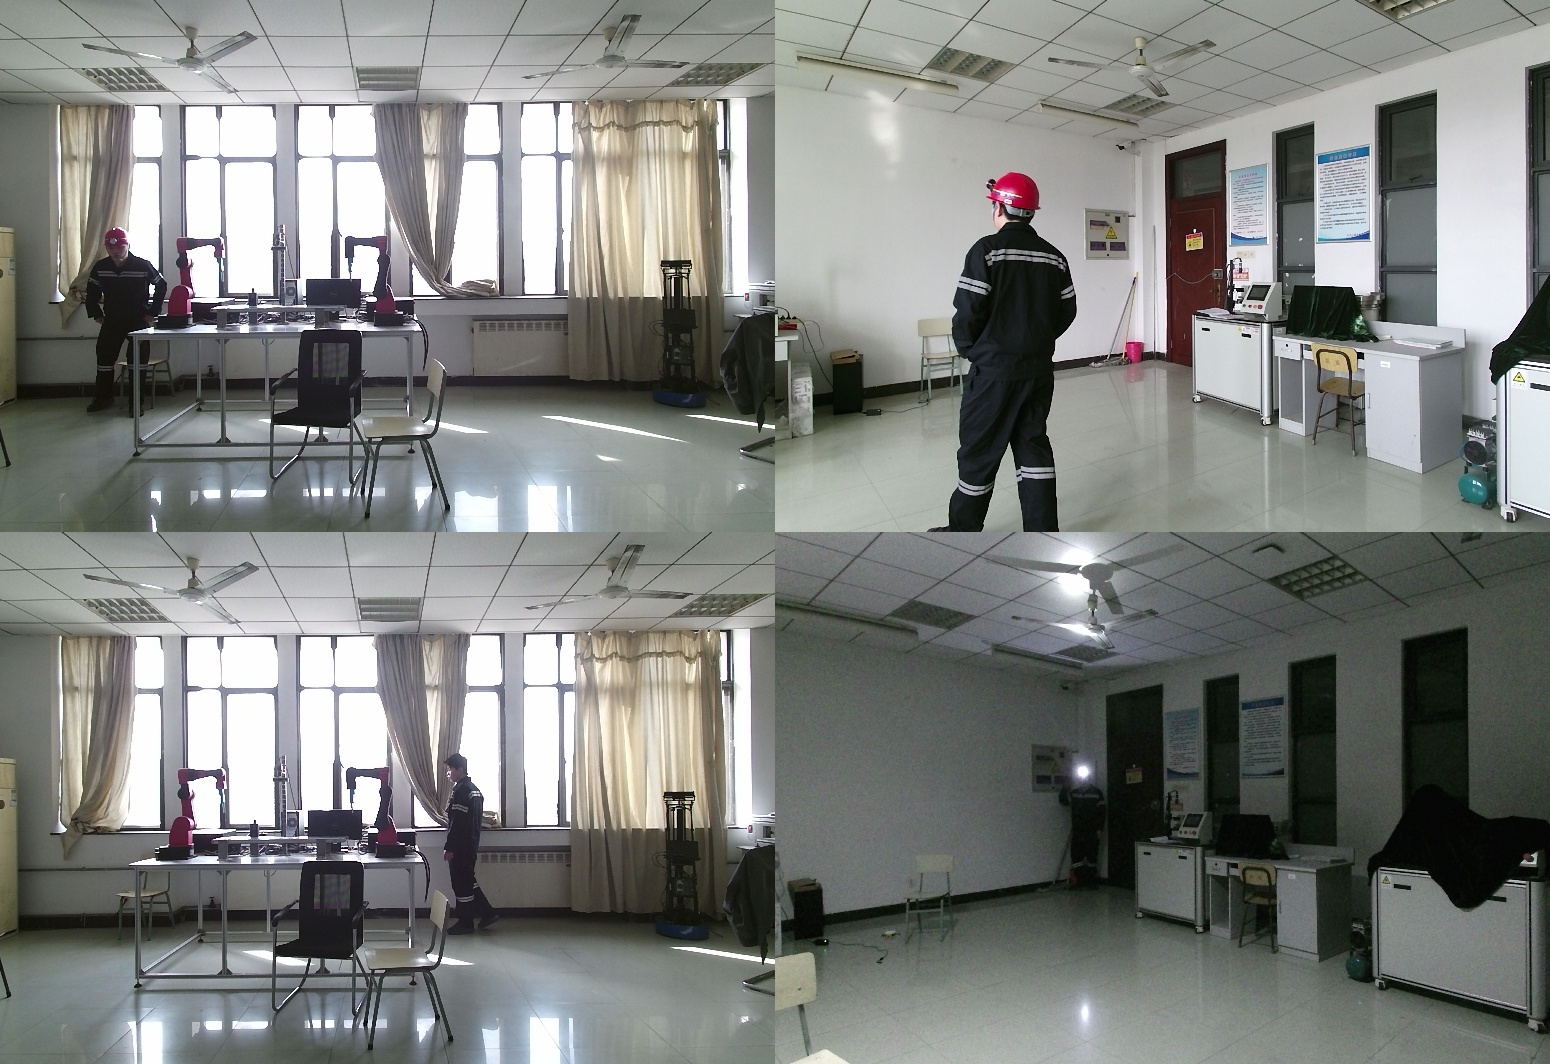person: (927, 172, 1094, 532), (76, 229, 167, 415), (445, 752, 503, 941), (1057, 768, 1105, 890)
